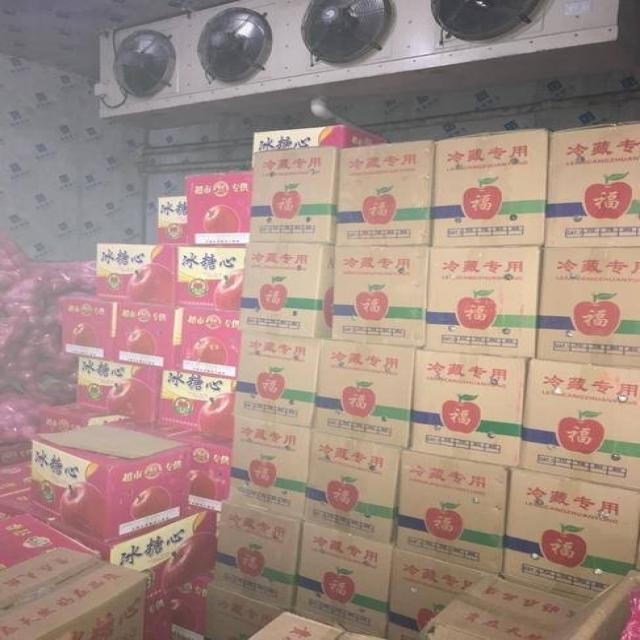box: (30, 425, 191, 543), (502, 467, 640, 598), (520, 358, 640, 491), (396, 449, 511, 574), (432, 128, 551, 247), (410, 349, 530, 467), (0, 546, 147, 640), (423, 245, 543, 357), (535, 247, 640, 368), (544, 120, 640, 247), (301, 430, 402, 544), (294, 522, 393, 638), (313, 339, 417, 448), (334, 140, 436, 246), (331, 245, 430, 347), (213, 503, 301, 608), (248, 147, 342, 245), (386, 548, 486, 640), (436, 577, 582, 640), (239, 243, 335, 338), (227, 415, 311, 520), (234, 331, 321, 427), (545, 567, 640, 640), (250, 124, 389, 167), (75, 356, 162, 422), (0, 516, 103, 571), (158, 369, 235, 438), (96, 242, 177, 306), (184, 169, 252, 244), (171, 431, 231, 513), (114, 302, 181, 371), (176, 243, 244, 310), (206, 585, 286, 639), (244, 609, 381, 640), (181, 307, 240, 377), (62, 297, 117, 359), (38, 403, 130, 433), (171, 575, 212, 634), (104, 418, 191, 437), (156, 195, 184, 243), (415, 621, 485, 640), (145, 596, 172, 639), (0, 460, 30, 496), (173, 626, 201, 640)
